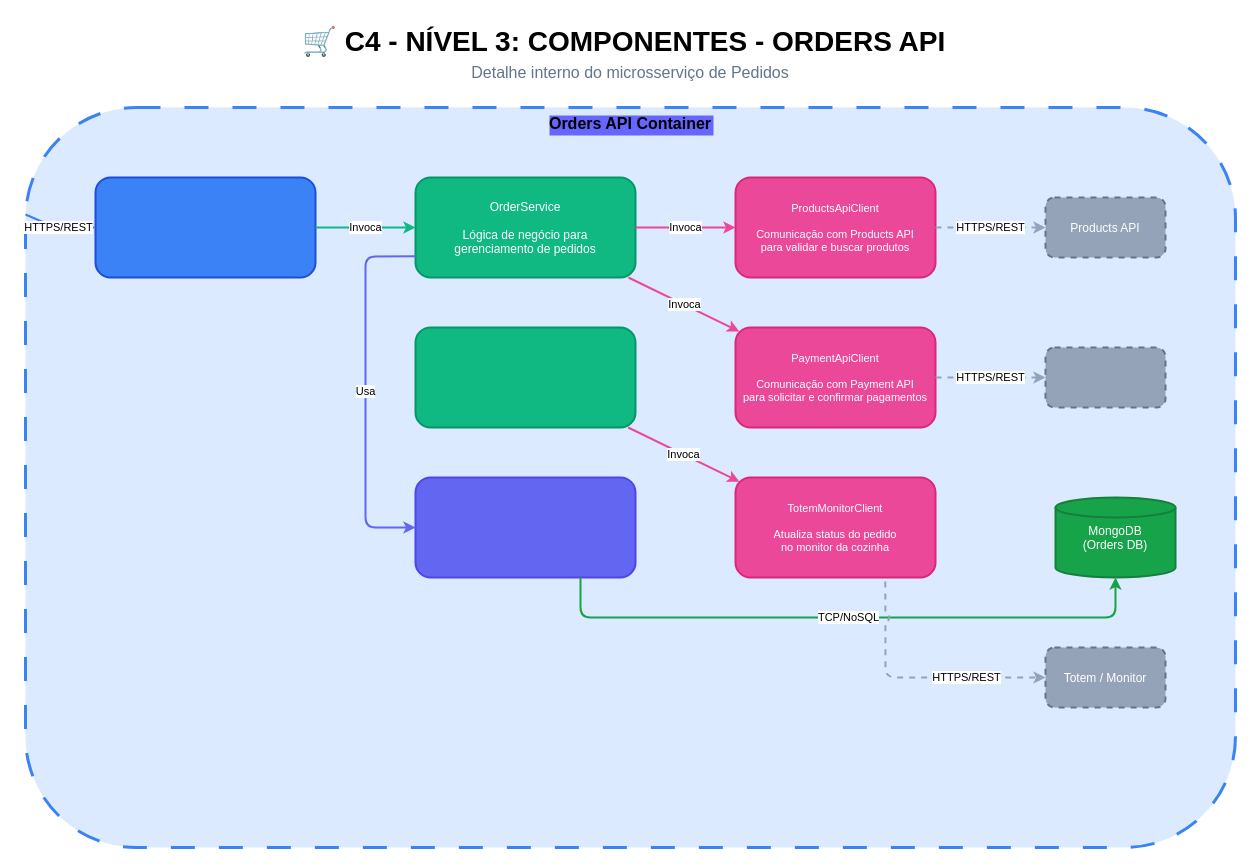
Image size: 1254x866. Some labels were removed from this diagram. Here are the shapes that lost their labels. From the top down, the box of each, then its label:
(94, 176, 316, 278): OrdersController Endpoints para criar, consultar e atualizar pedidos
(414, 326, 636, 428): OrderStatusService Gerencia o fluxo de status do pedido (cozinha)
(1044, 346, 1166, 408): Payment API
(414, 476, 636, 578): OrderRepository Acesso e persistência de dados de pedidos no MongoDB
